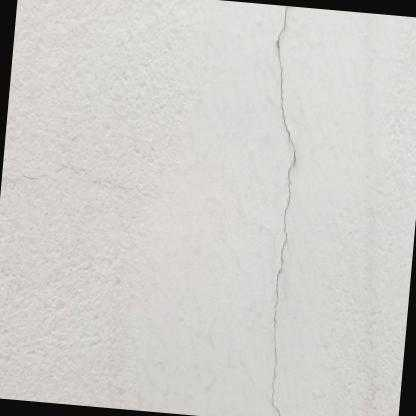crack: (271, 6, 296, 416)
